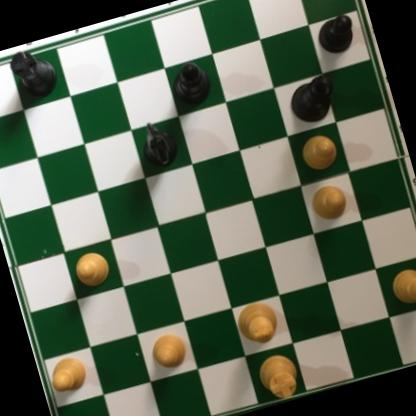black-bishop: (163, 57, 217, 113)
black-king: (282, 71, 341, 129)
black-knight: (134, 114, 184, 174)
black-pawn: (310, 10, 360, 59)
black-rook: (2, 38, 63, 104)
white-king: (230, 296, 284, 351)
white-pawn: (292, 128, 341, 177), (140, 328, 191, 374), (305, 179, 354, 226), (43, 350, 91, 397), (70, 245, 117, 292), (386, 265, 416, 310)
white-rook: (252, 344, 307, 407)
